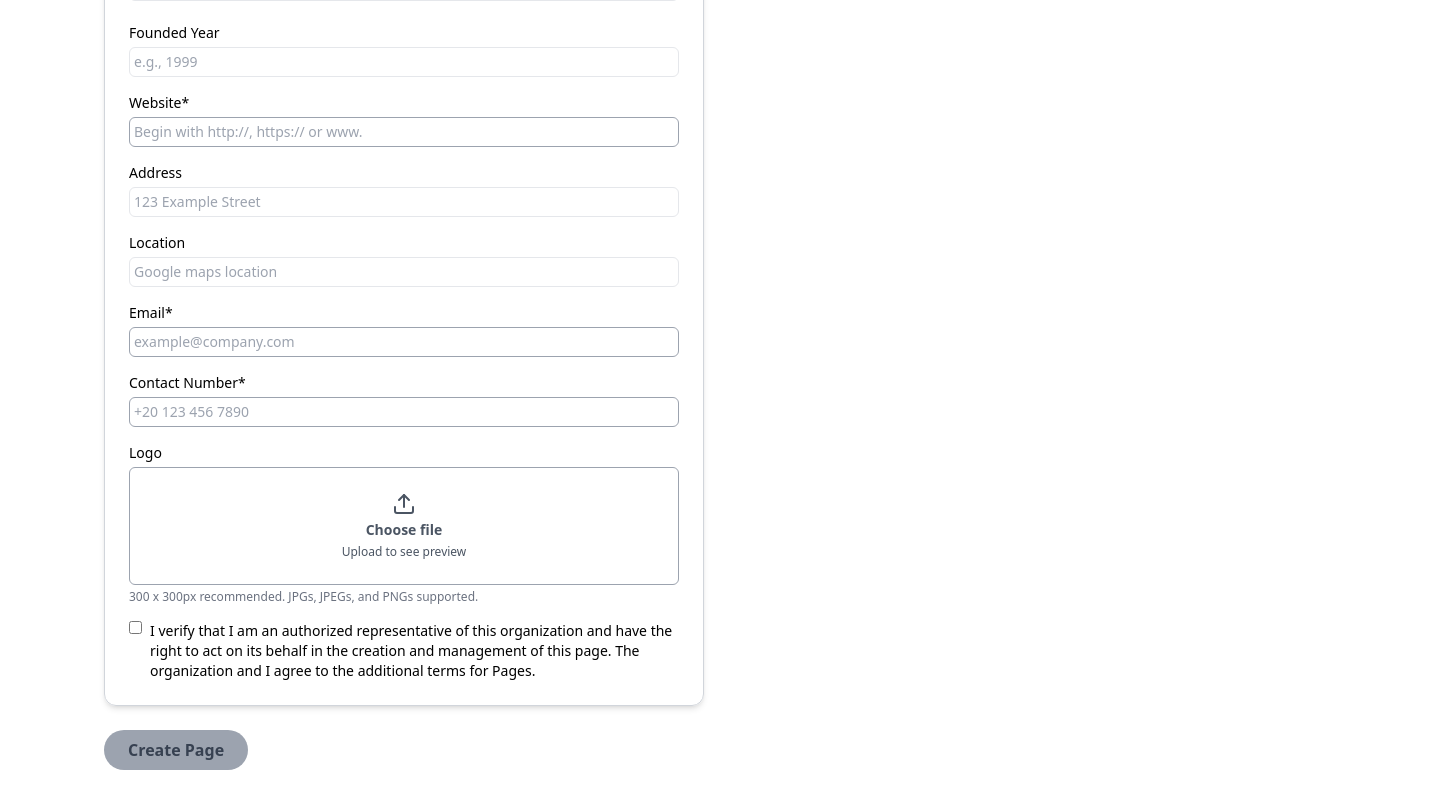
Test: CreateCompanyPage › displays validation errors if form is incomplete
(page scrolled)
Click the checkbox with test id "agree-terms". click: (136, 628)
box: [129,621,142,634]
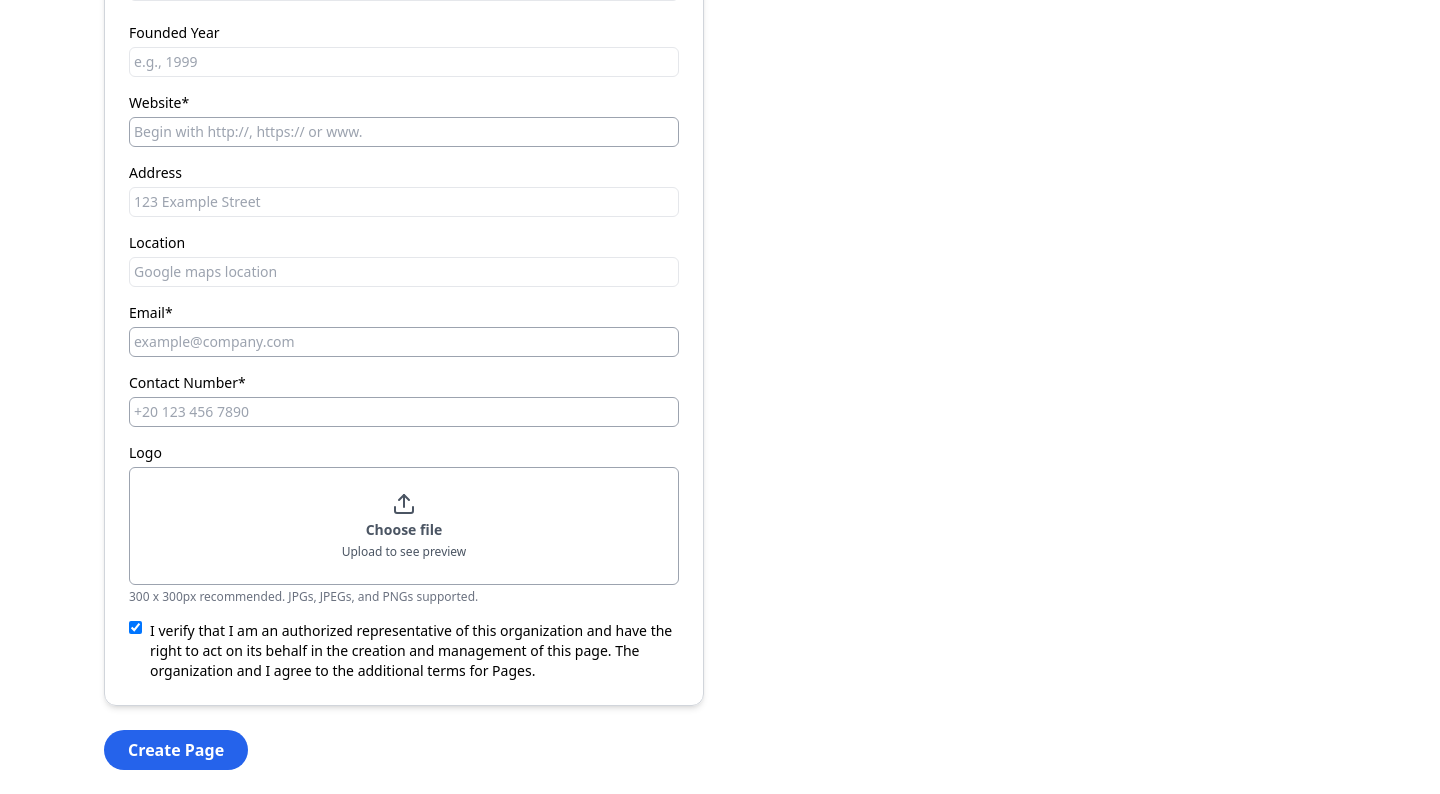
Click the button "Create Page". click: (176, 750)
box: [104,730,248,770]
(page scrolled)
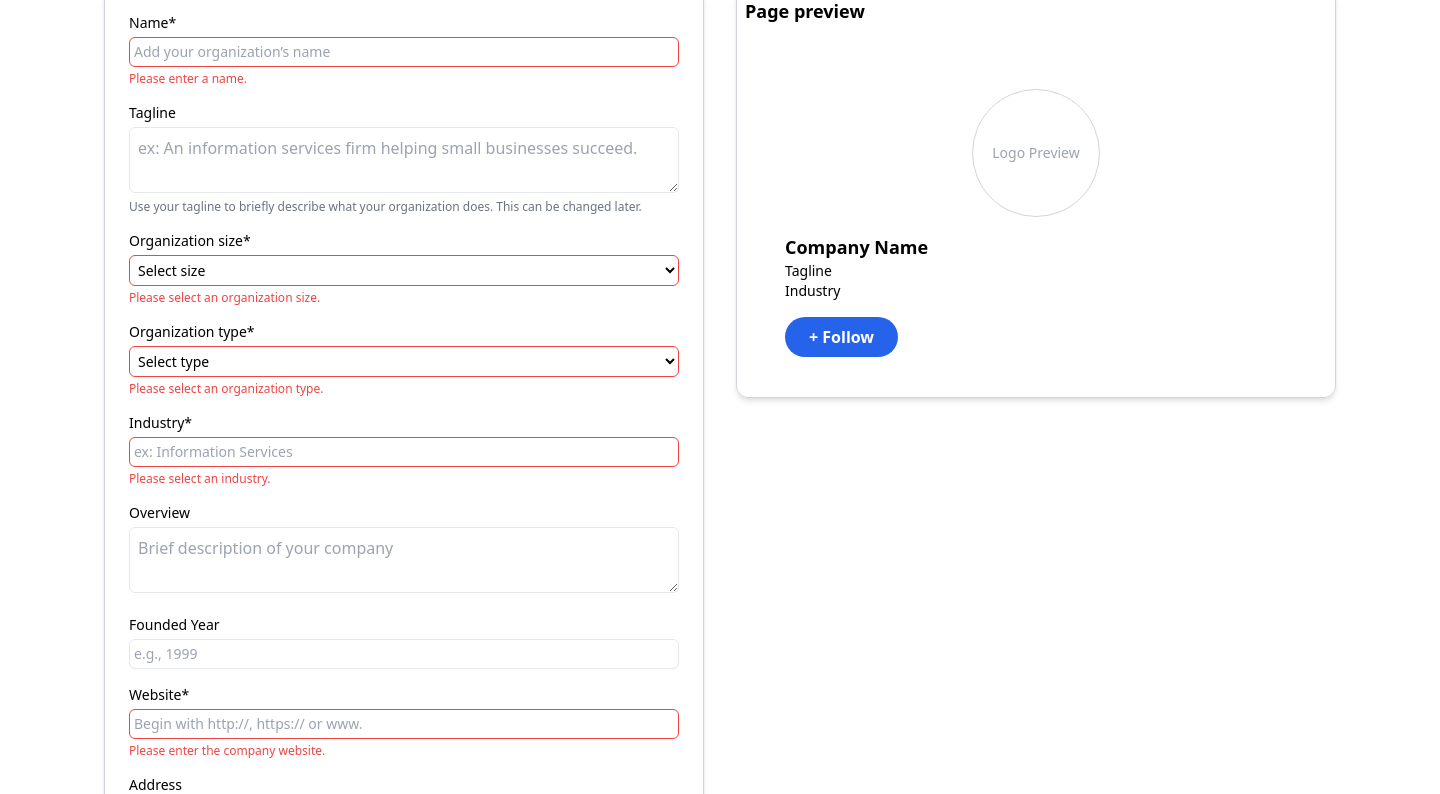
Expected: the text "Please enter a name." is shown, [129,70,247,87]
Expected: the text "Please select an industry." is shown, [129,470,271,487]
Expected: the text "Please select an organization size." is shown, [129,289,320,306]
